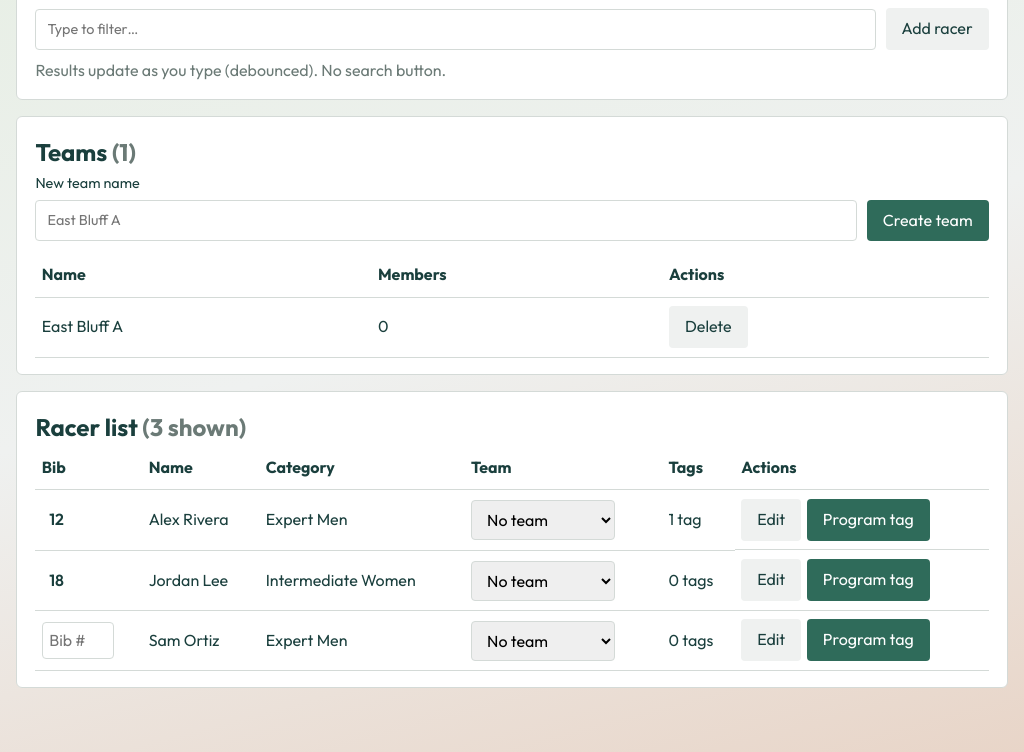
Test: Racers.vue › warns after bib save when returned tag_uids are empty
This screenshot has width=1024, height=752.
(page scrolled)
Click the button with test id "bib-edit" showing "18" at (57, 581), box top-left (42, 563), bottom-right (71, 598)
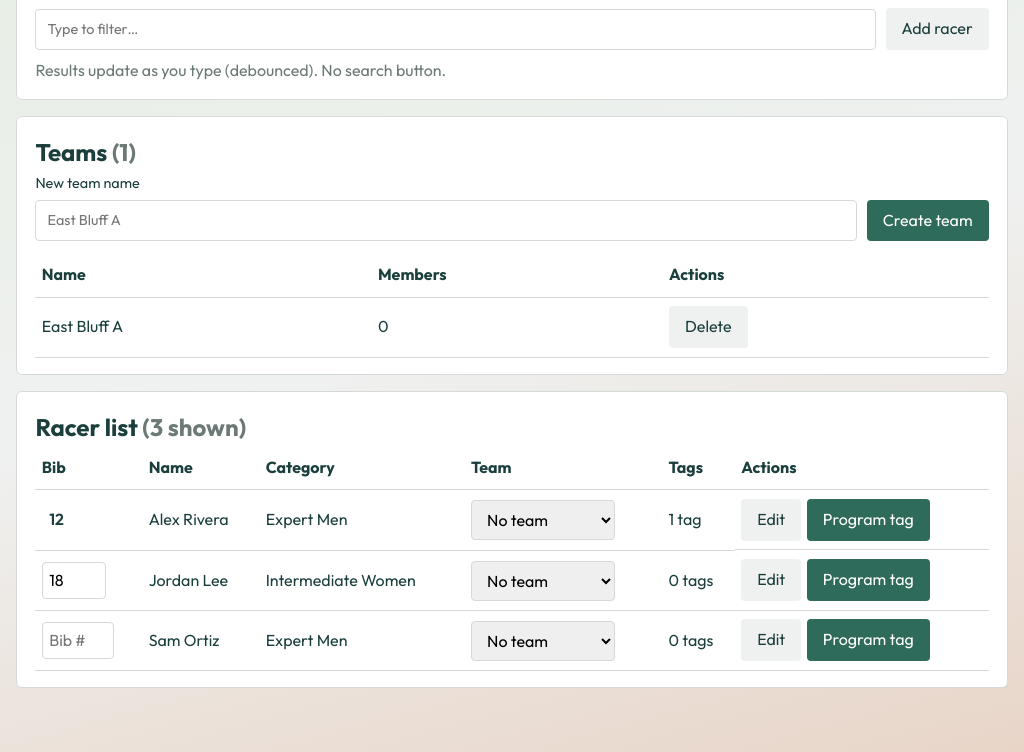
Replace the text in the field with test id "bib-edit-input" with "42" at (74, 581), box top-left (42, 562), bottom-right (106, 599)
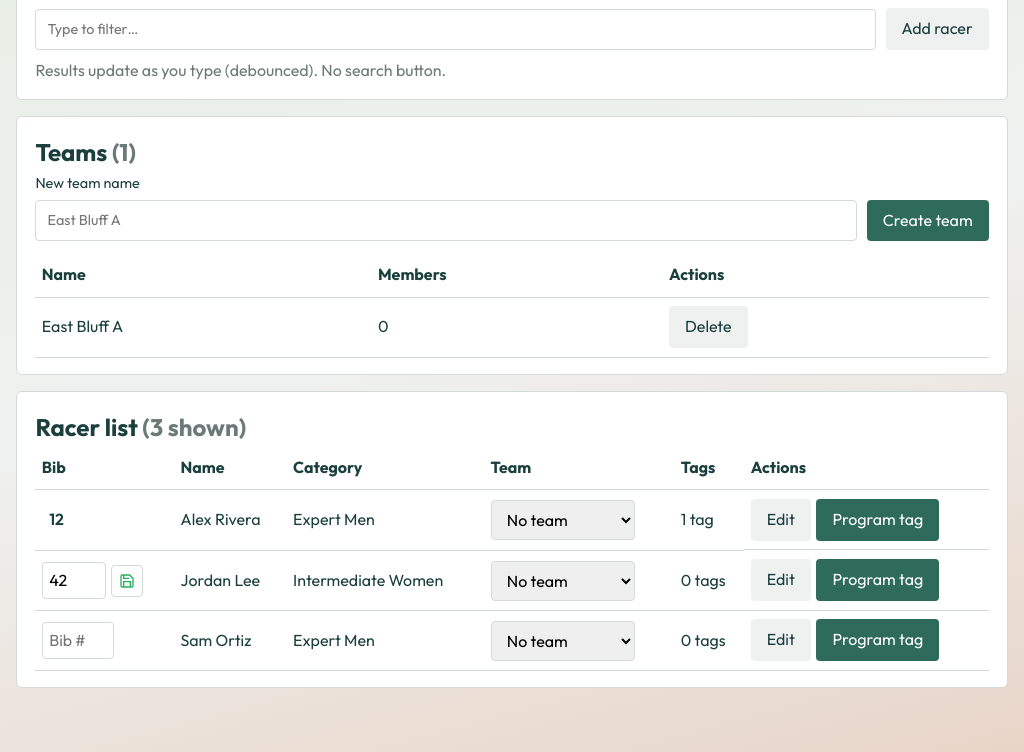
Click the button with test id "bib-save" at (127, 580), box top-left (111, 564), bottom-right (143, 596)
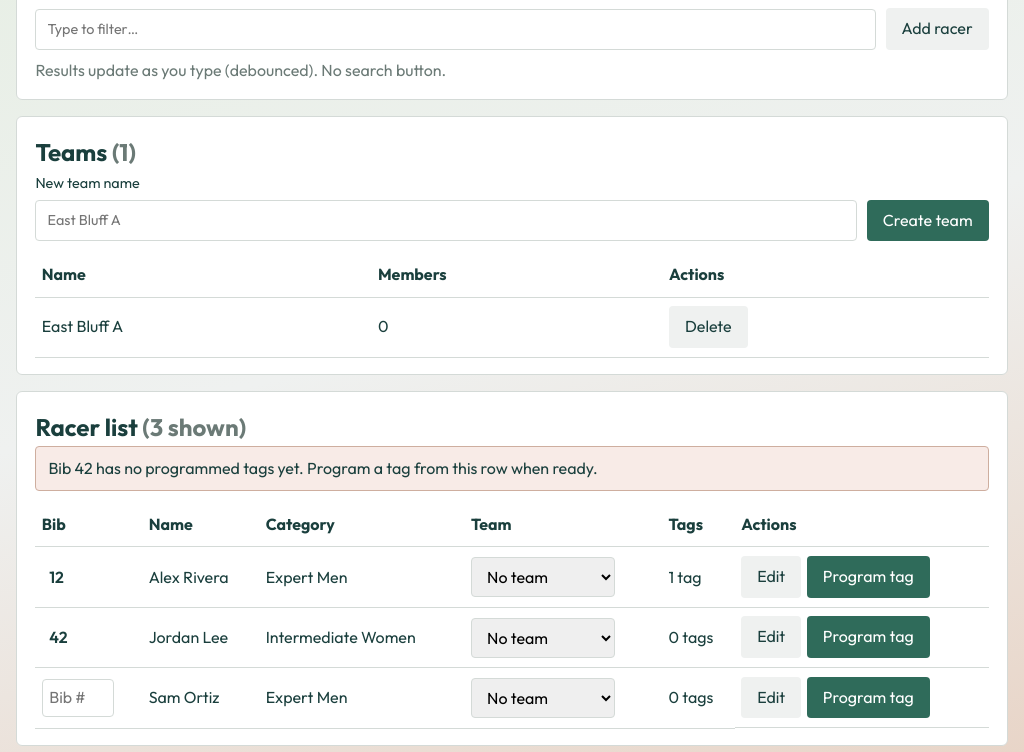
Now the message "Bib 42 has no programmed tags yet. Program a tag from this row when ready." is shown, box top-left (35, 446), bottom-right (989, 491)
